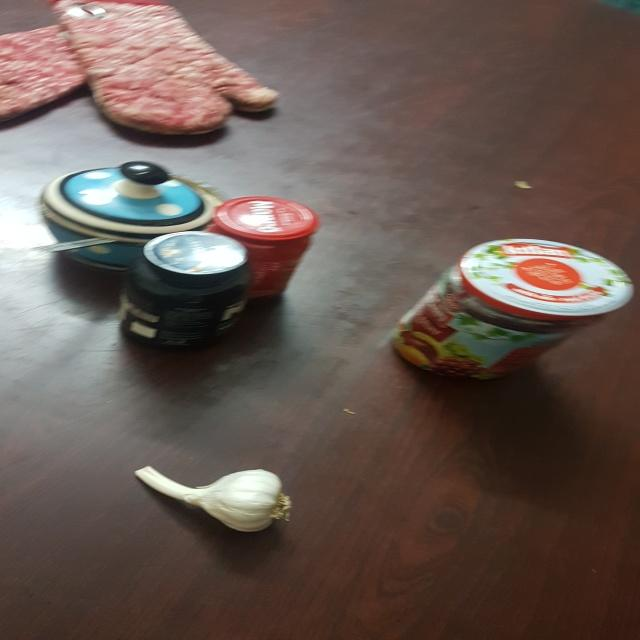garlic: (130, 458, 302, 543)
